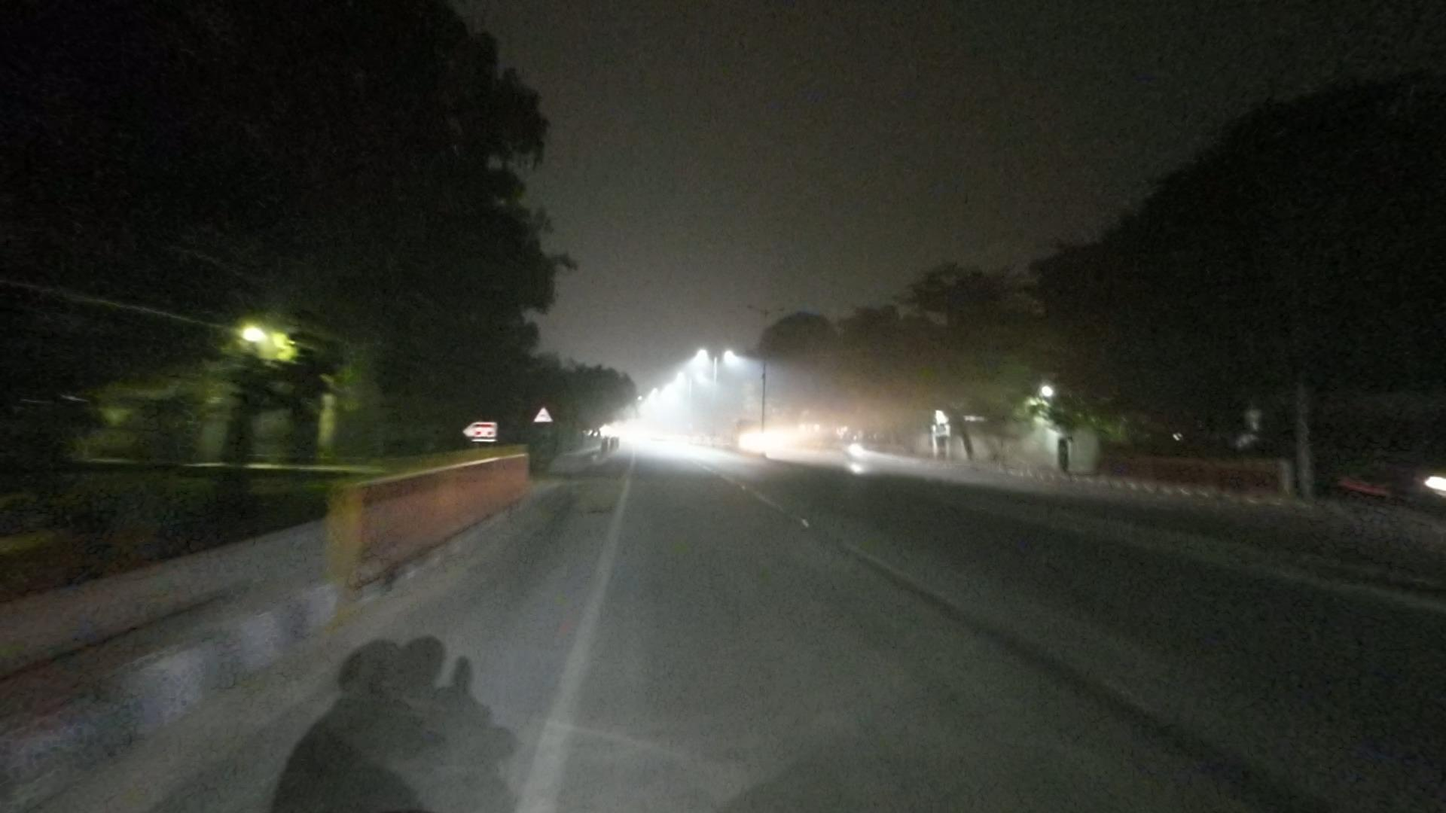streetlight: (745, 303, 764, 313), (768, 306, 784, 314)
